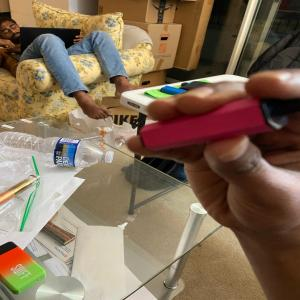Blume-E-Ciggirate: (140, 94, 298, 156)
